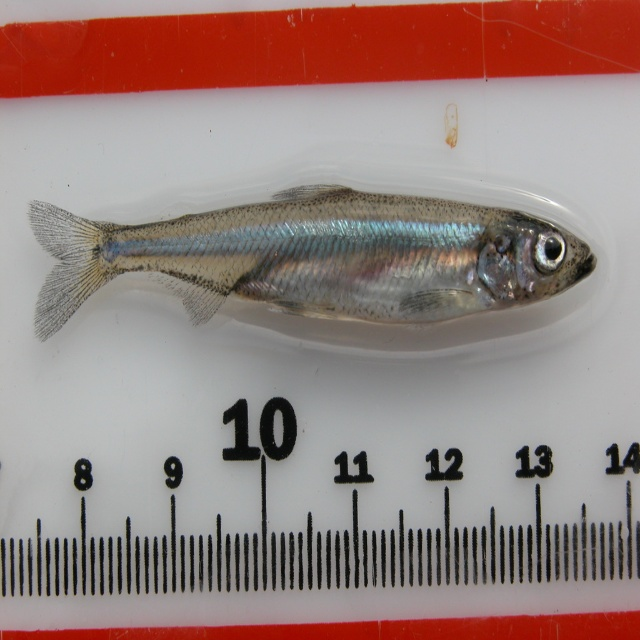Fish: (32, 165, 587, 362)
